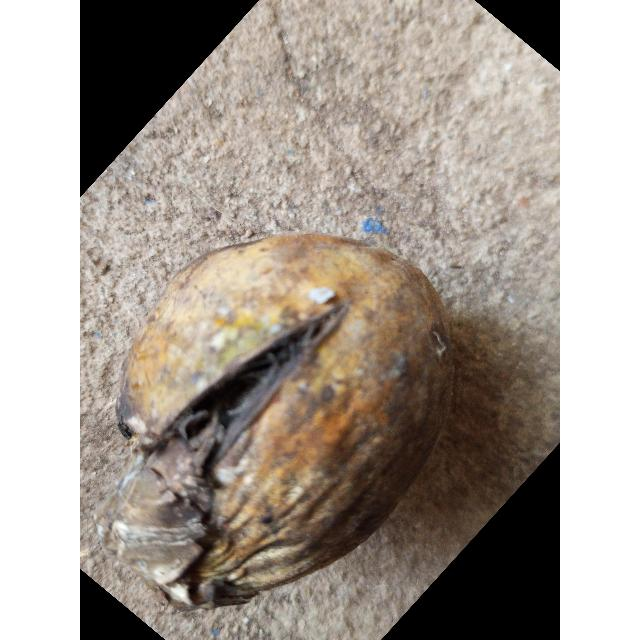damaged: (105, 232, 457, 615)
